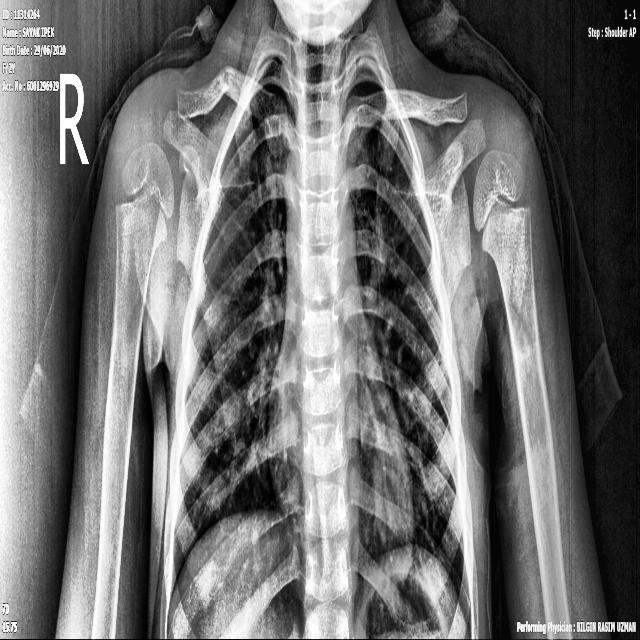Fracture: (510, 340, 545, 372), (215, 61, 237, 106)
